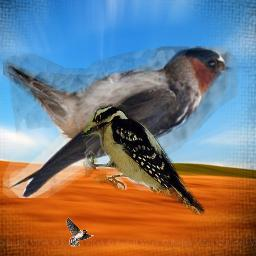Swallow: (3, 46, 238, 198), (66, 217, 95, 247)
Woodpecker: (81, 100, 205, 215)
